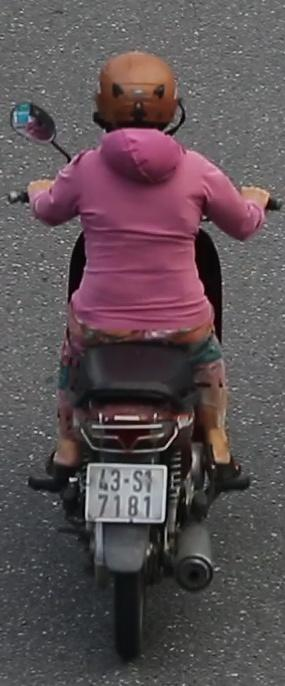LP: (83, 460, 172, 530)
helmet: (87, 45, 187, 160)
